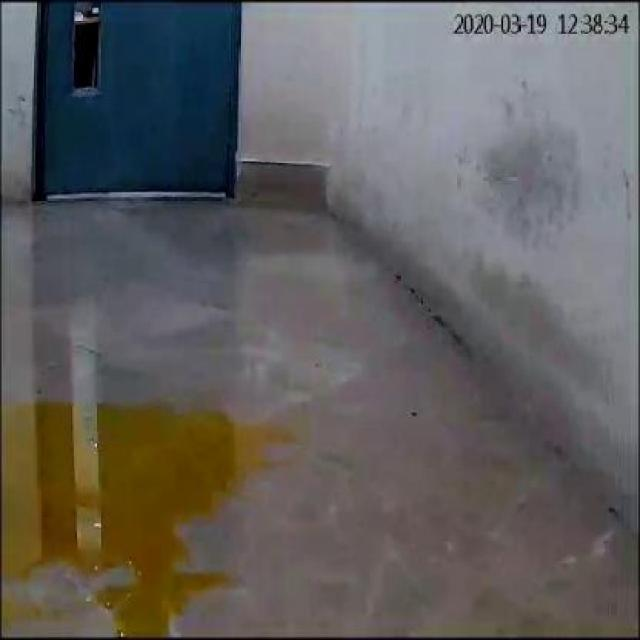spill: (8, 392, 274, 640)
